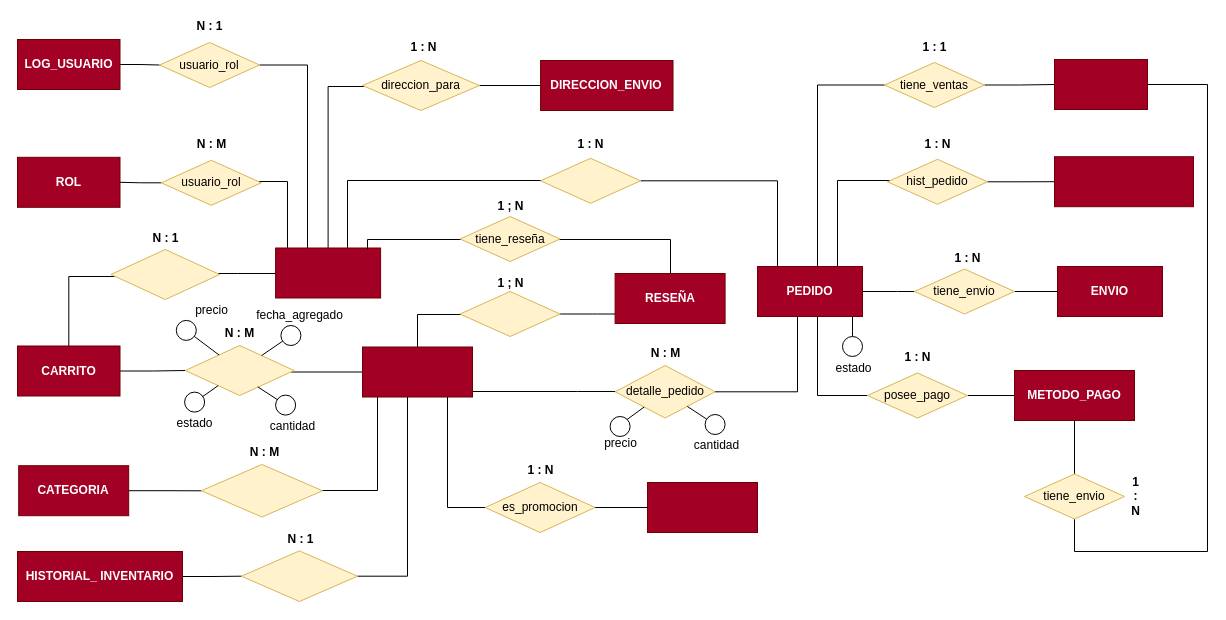
Some shapes in this 1226 by 620 pixel diagram are drawn without their labels. The shapes that lost their labels are listed below. From the top down, each one's box as (x1, y1, x2, y2) in pixels, then its label:
(1054, 58, 1148, 110): VENTA
(540, 157, 641, 203): tiene_pedido
(1054, 156, 1194, 207): HISTORIAL_PEDIDO
(110, 248, 220, 300): tiene_carrito
(275, 247, 381, 298): USUARIO
(459, 290, 560, 336): reseña_producto
(184, 344, 294, 396): carrito_producto
(362, 346, 472, 397): PRODUCTO
(200, 464, 322, 517): categoria_prod
(646, 482, 758, 532): PROMOCION
(240, 550, 358, 602): hist_prod
